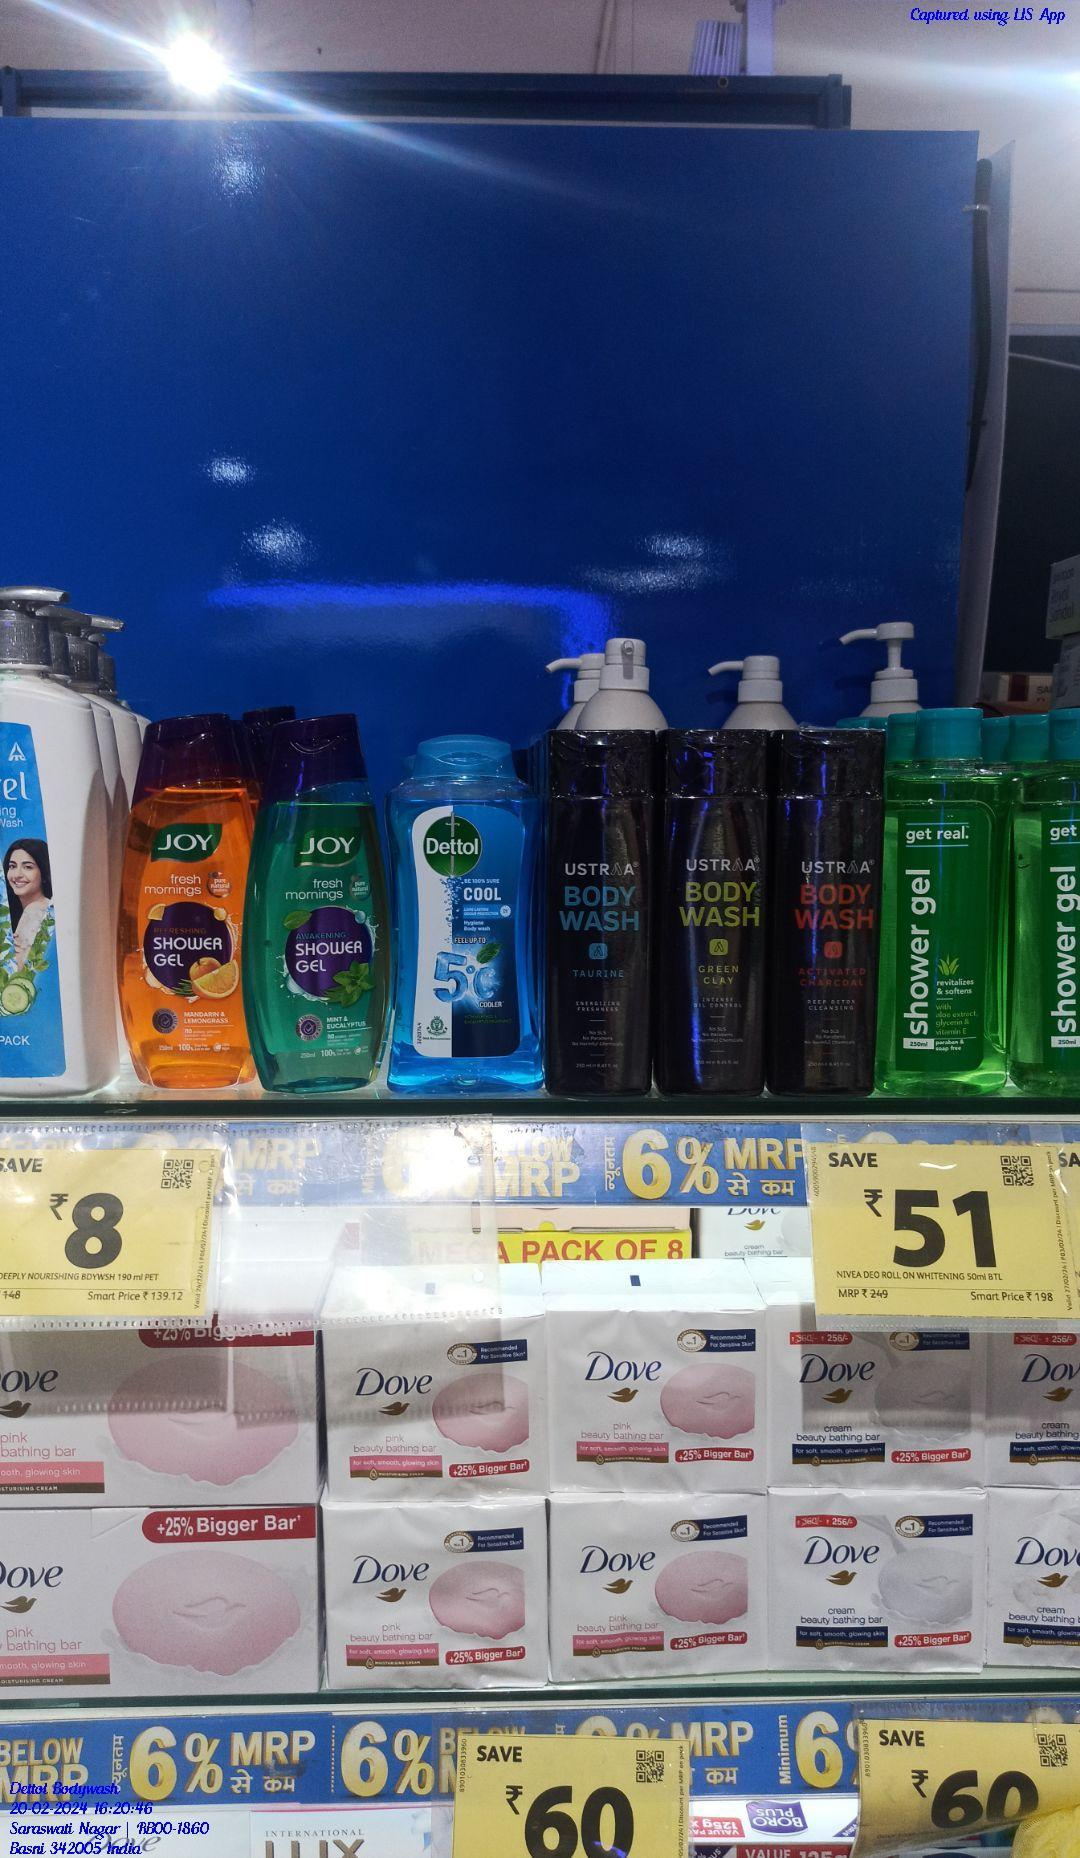Dettol_Bodywash_Cool: (397, 742, 539, 1101)
Joy_Shower_Gel_Mandarin_and_Lemongrass_250ML: (122, 737, 247, 1084)
Joy_Shower_Gel_Mint_and_Eucalyptus_250ML: (264, 720, 384, 1103)
